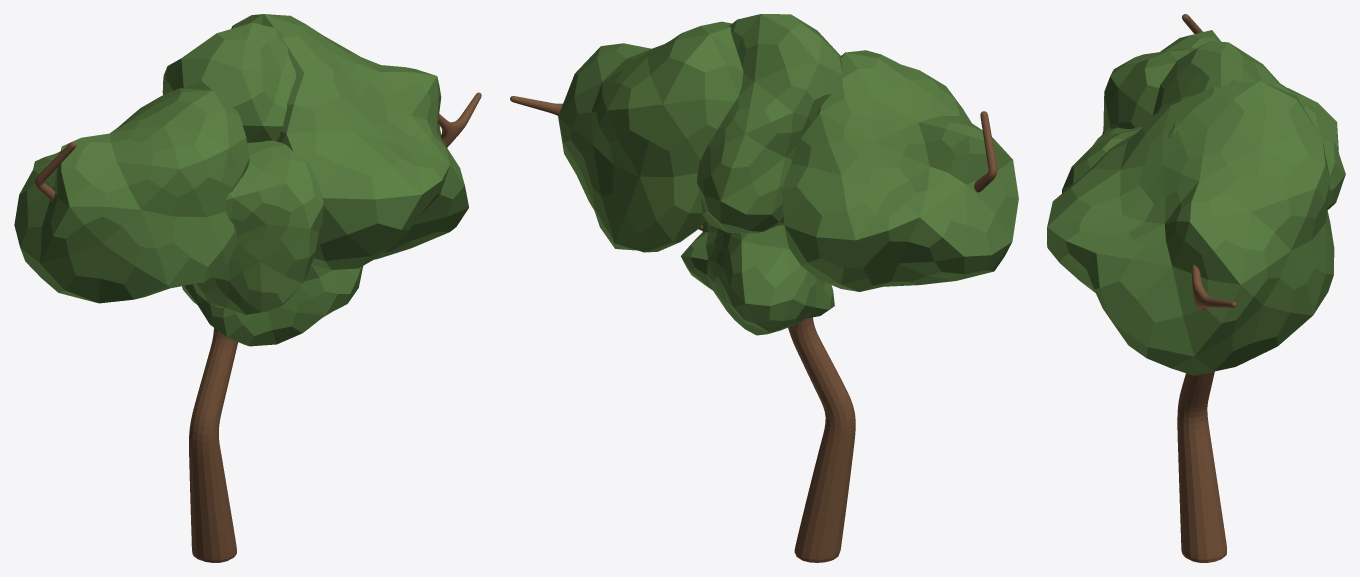
The model's file is bushy_tree.fbx.
3 views of the same model, side by side, from view 1: azimuth 30°, elevation 25°; view 2: azimuth 150°, elevation 25°; view 3: azimuth 270°, elevation 25° (orthographic). The views are drawn at different scales.
Visible parts, largest first — view 1: Icosphere.001, Icosphere, Icosphere.006, Icosphere.004, Cube, Icosphere.005; view 2: Icosphere.001, Icosphere, Icosphere.004, Icosphere.005, Cube; view 3: Icosphere, Cube, Icosphere.004, Icosphere.001, Icosphere.006.
Boxes of the visible parts, left/top/right/bottom form: Icosphere.001: left=14, top=88, right=249, bottom=303; Icosphere: left=231, top=14, right=468, bottom=269; Icosphere.006: left=193, top=140, right=323, bottom=314; Icosphere.004: left=162, top=22, right=338, bottom=142; Cube: left=35, top=92, right=481, bottom=562; Icosphere.005: left=182, top=264, right=363, bottom=346; Icosphere.001: left=781, top=50, right=1018, bottom=291; Icosphere: left=558, top=21, right=743, bottom=252; Icosphere.004: left=697, top=14, right=842, bottom=233; Icosphere.005: left=681, top=221, right=834, bottom=335; Cube: left=510, top=96, right=997, bottom=562; Icosphere: left=1047, top=81, right=1334, bottom=375; Cube: left=1177, top=14, right=1236, bottom=562; Icosphere.004: left=1152, top=41, right=1345, bottom=209; Icosphere.001: left=1102, top=30, right=1338, bottom=152; Icosphere.006: left=1062, top=127, right=1141, bottom=193.
Bounding box in the file's own units: 299 × 319 × 164.
